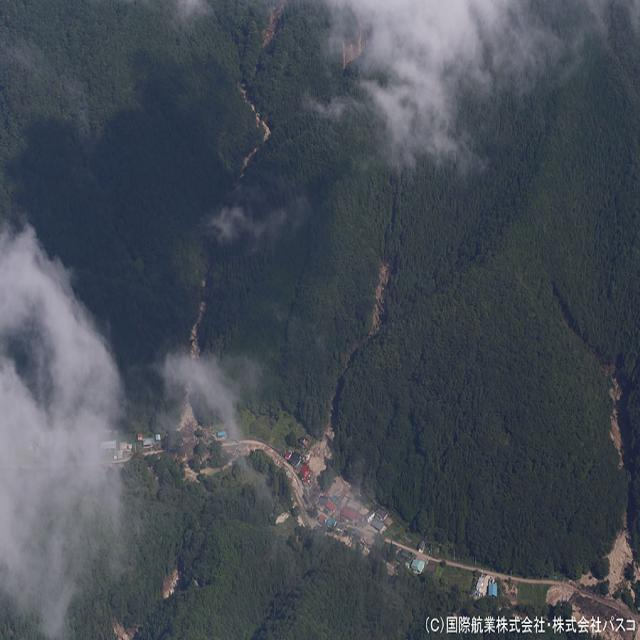Debris-flow: (609, 527, 634, 592), (610, 379, 622, 464), (190, 302, 204, 357), (180, 392, 195, 427), (551, 587, 560, 600), (580, 574, 590, 585)
